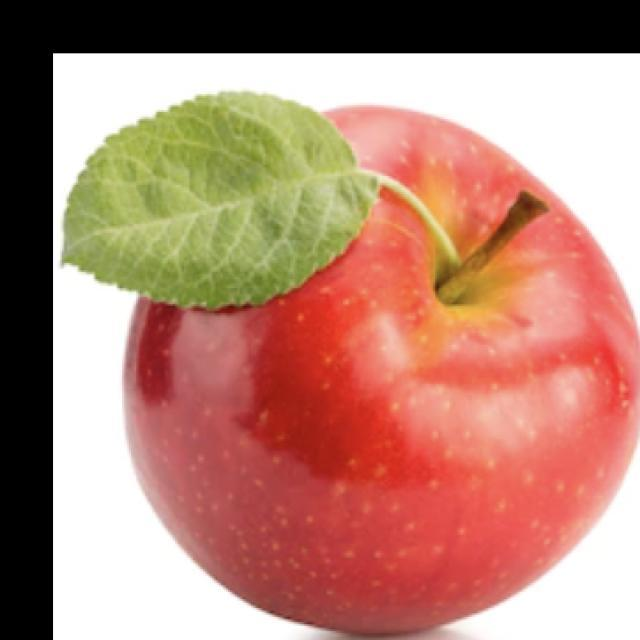Apple: (120, 101, 639, 637)
